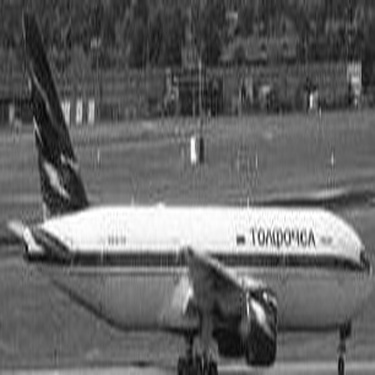airplane: (11, 25, 357, 352)
